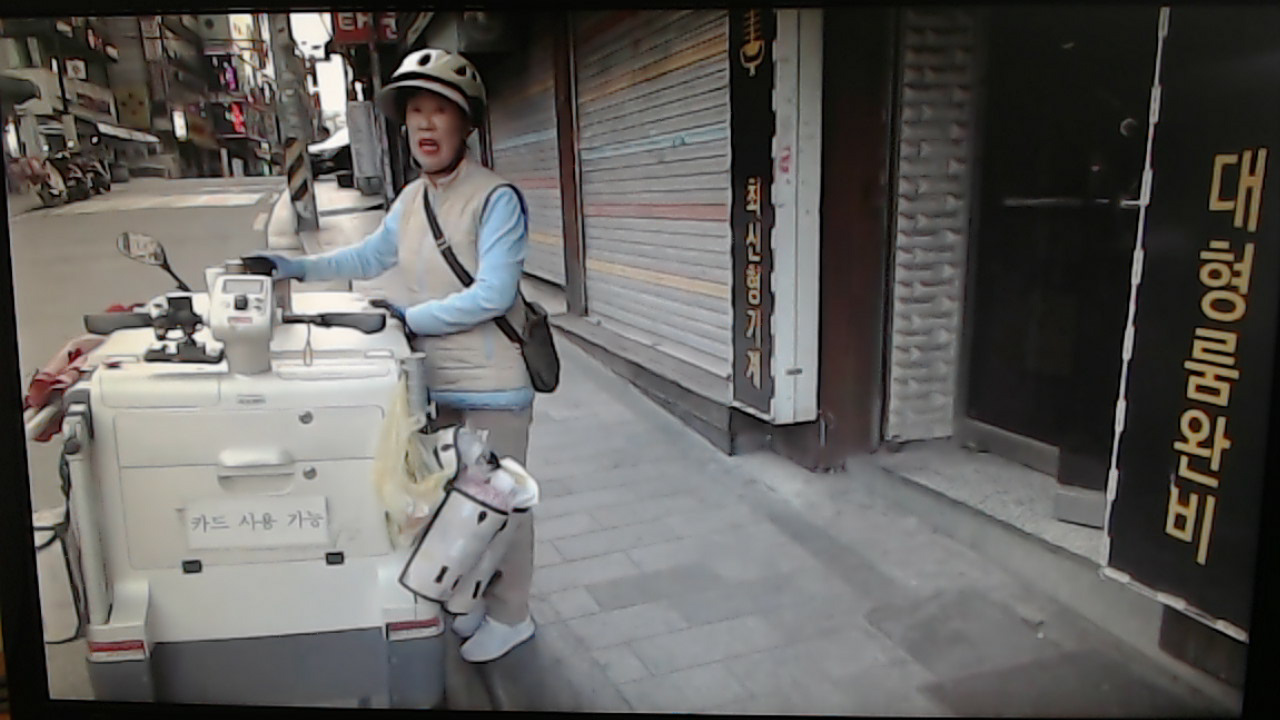Yakurut: (241, 28, 574, 677)
